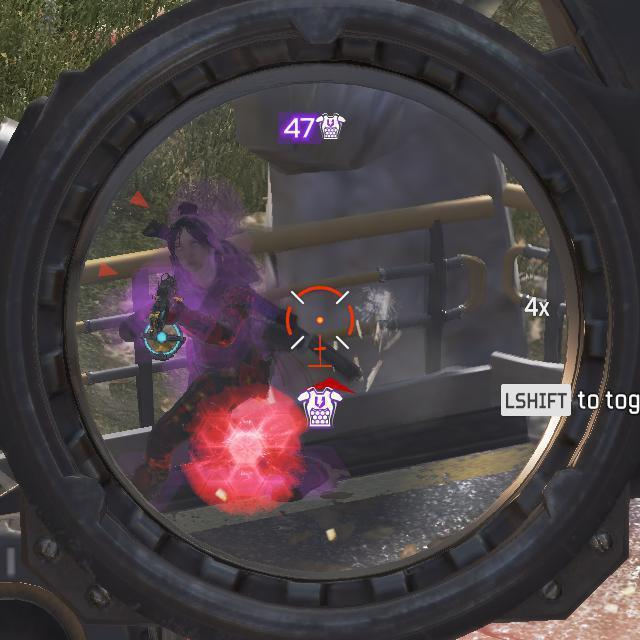avatar: (143, 200, 305, 504)
object: (186, 386, 306, 515)
